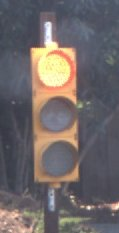Red: (20, 39, 93, 188)
